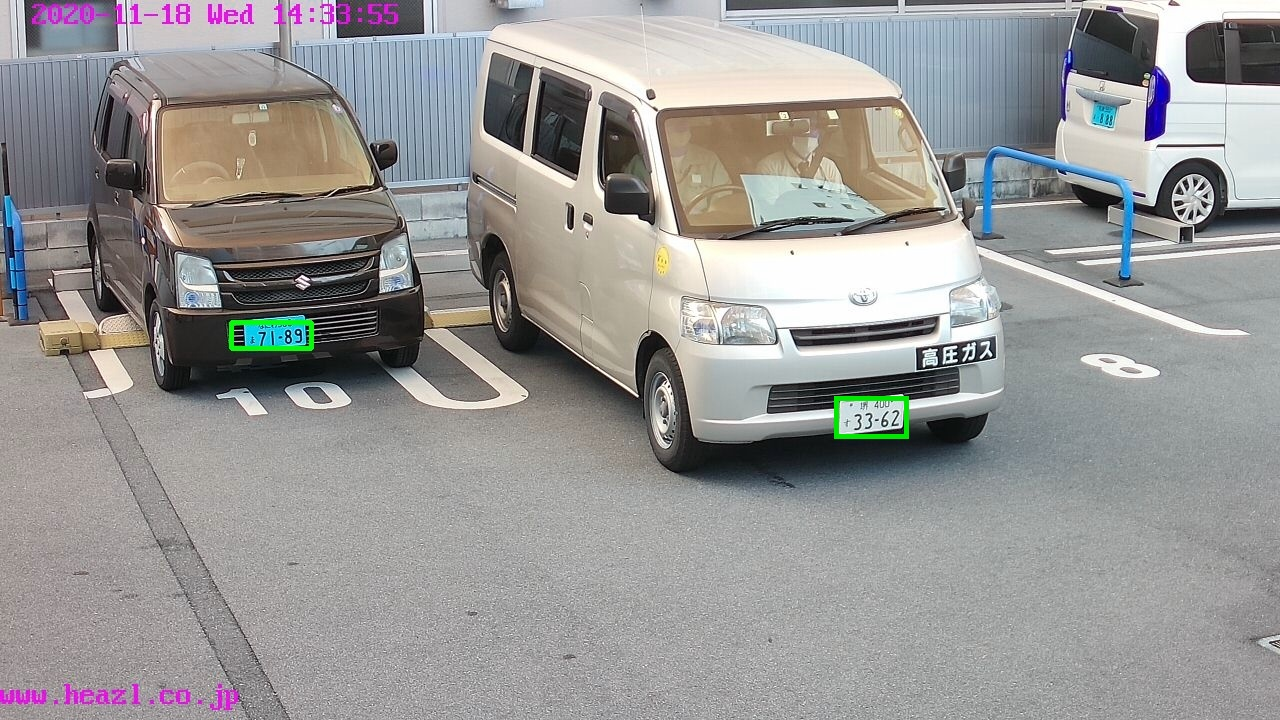number_plate: (839, 398, 906, 434), (242, 315, 305, 344), (1089, 101, 1118, 128)
